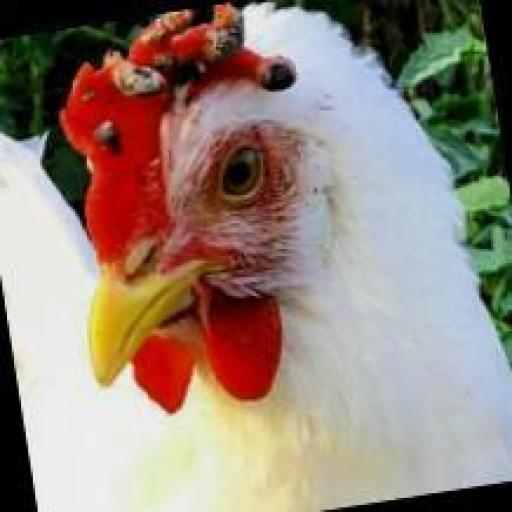disease: (72, 0, 373, 107), (88, 120, 123, 154)
